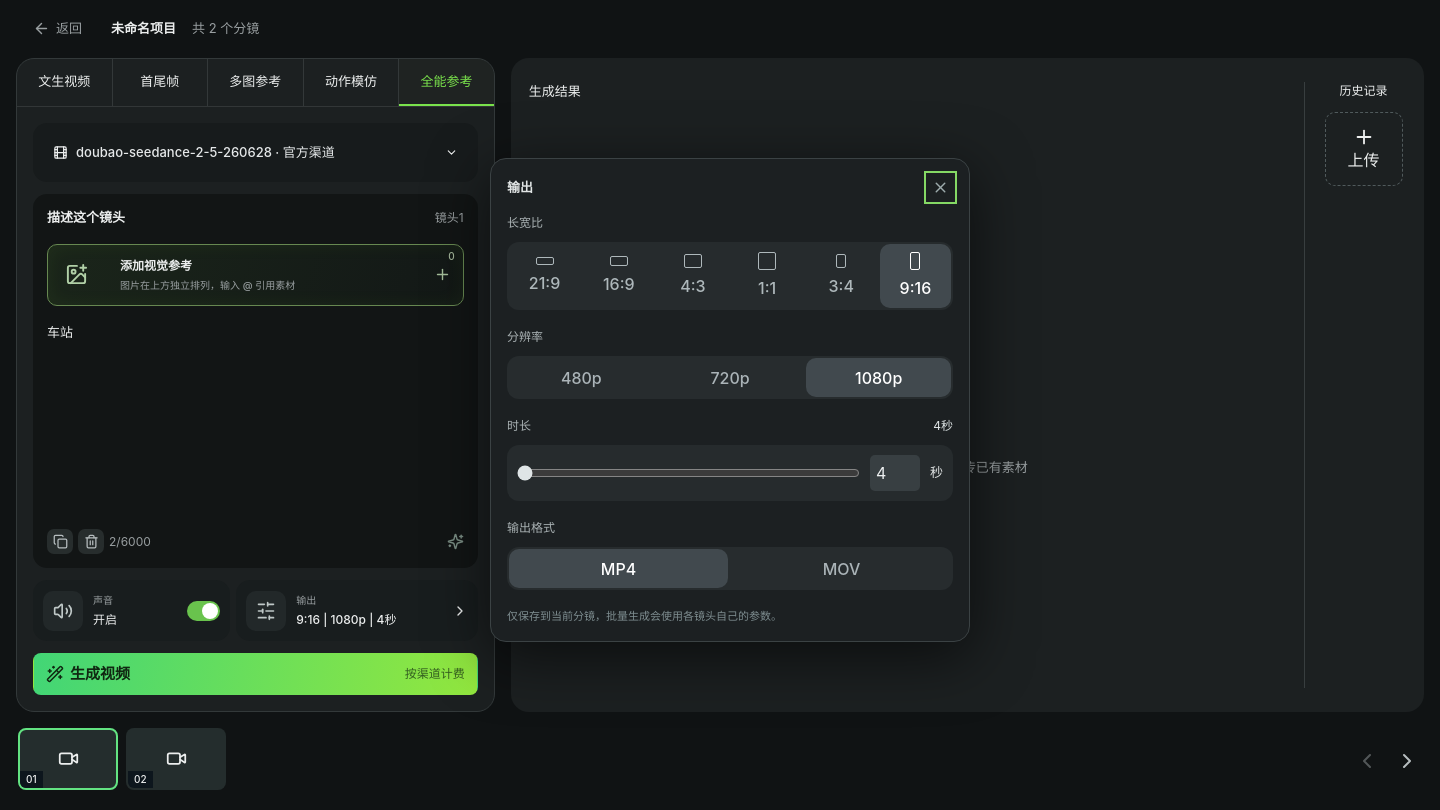
Test: film workspace interactions › keeps generation parameters independent across shots, close/reopen and saves
Earlier steps of the test are not shown.
Click the button "MOV" at (842, 568), box x1=732 y1=549 x2=951 y2=588
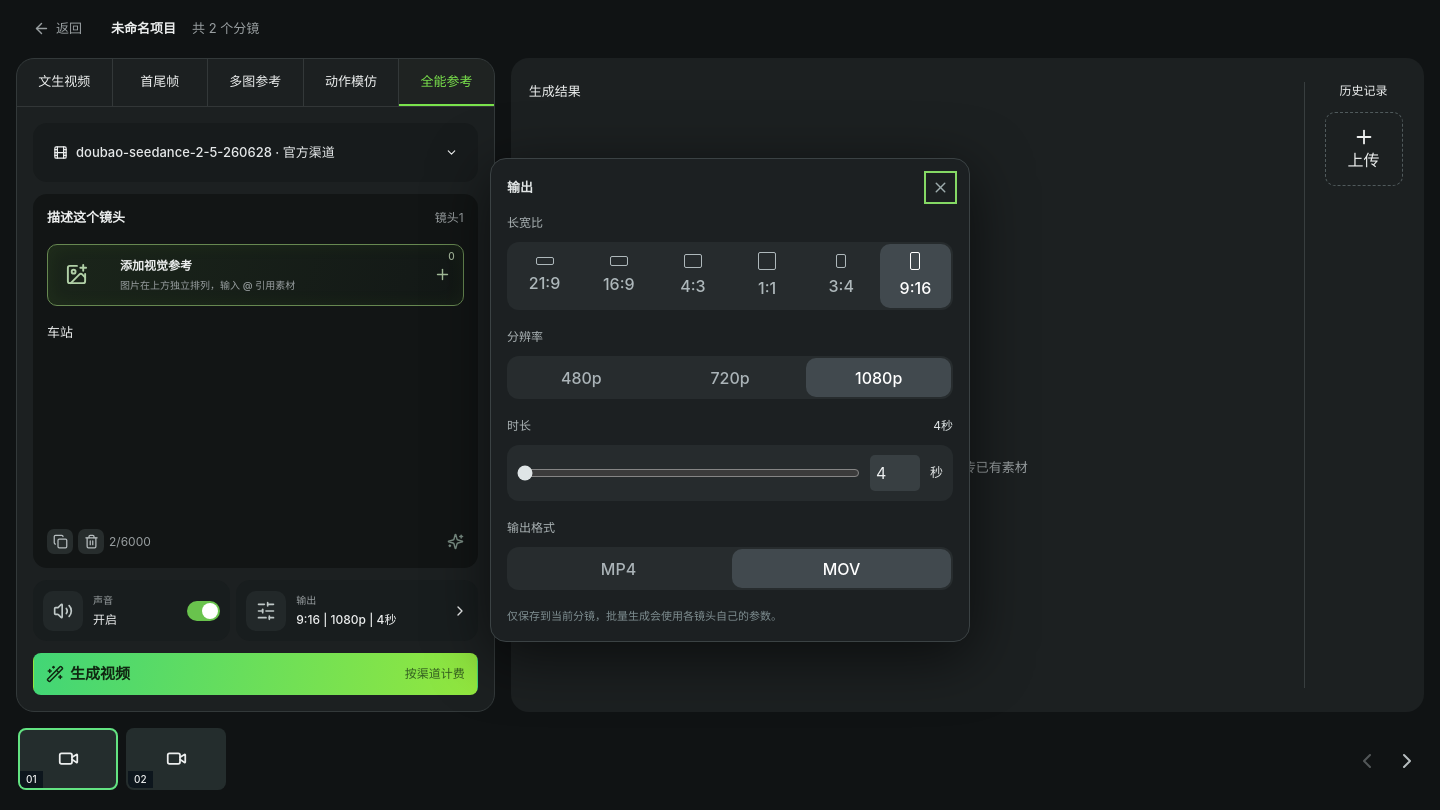
Click the button named "关闭输出参数" at (940, 188), box x1=928 y1=175 x2=953 y2=200
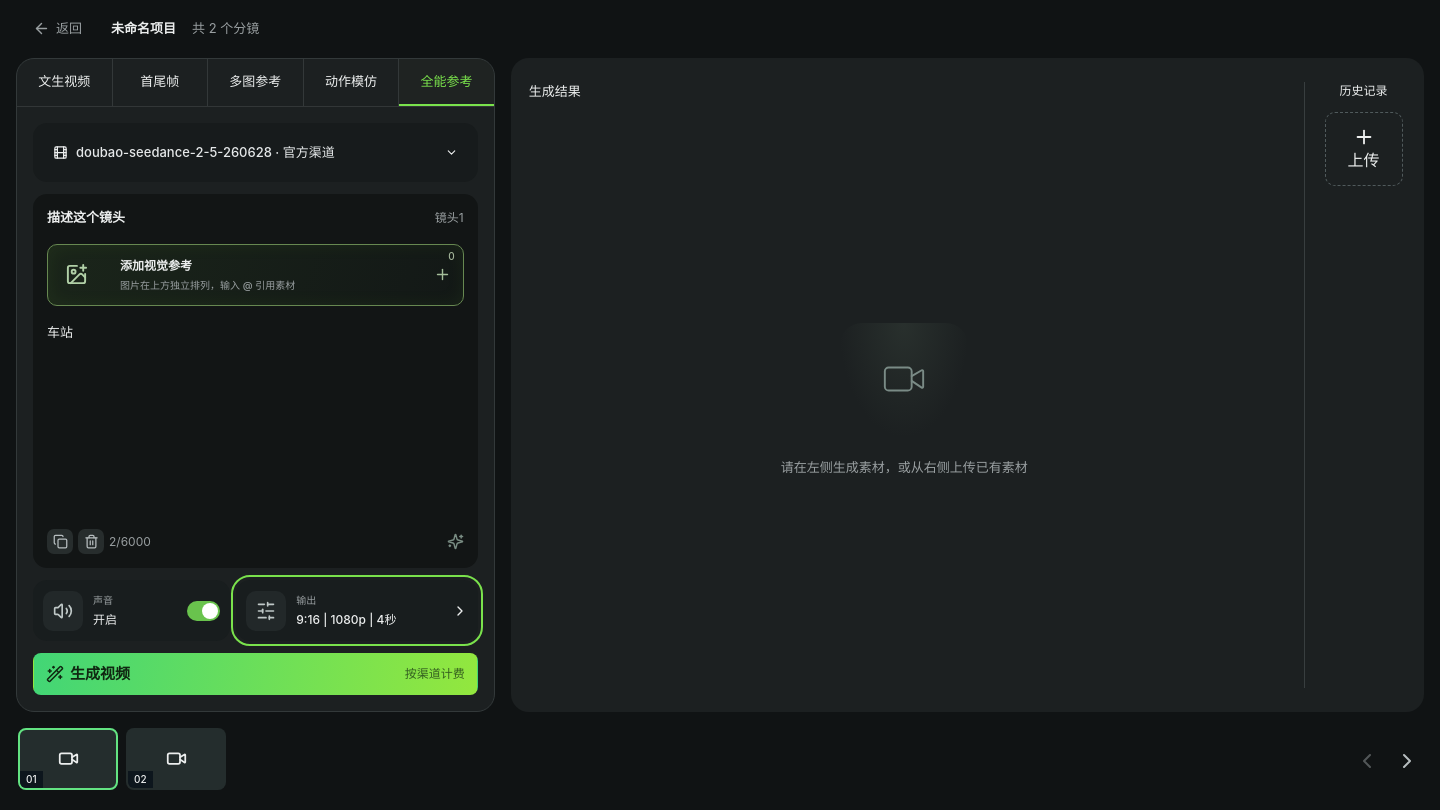
Click the button named "下一项" at (1407, 761), box x1=1392 y1=746 x2=1422 y2=776
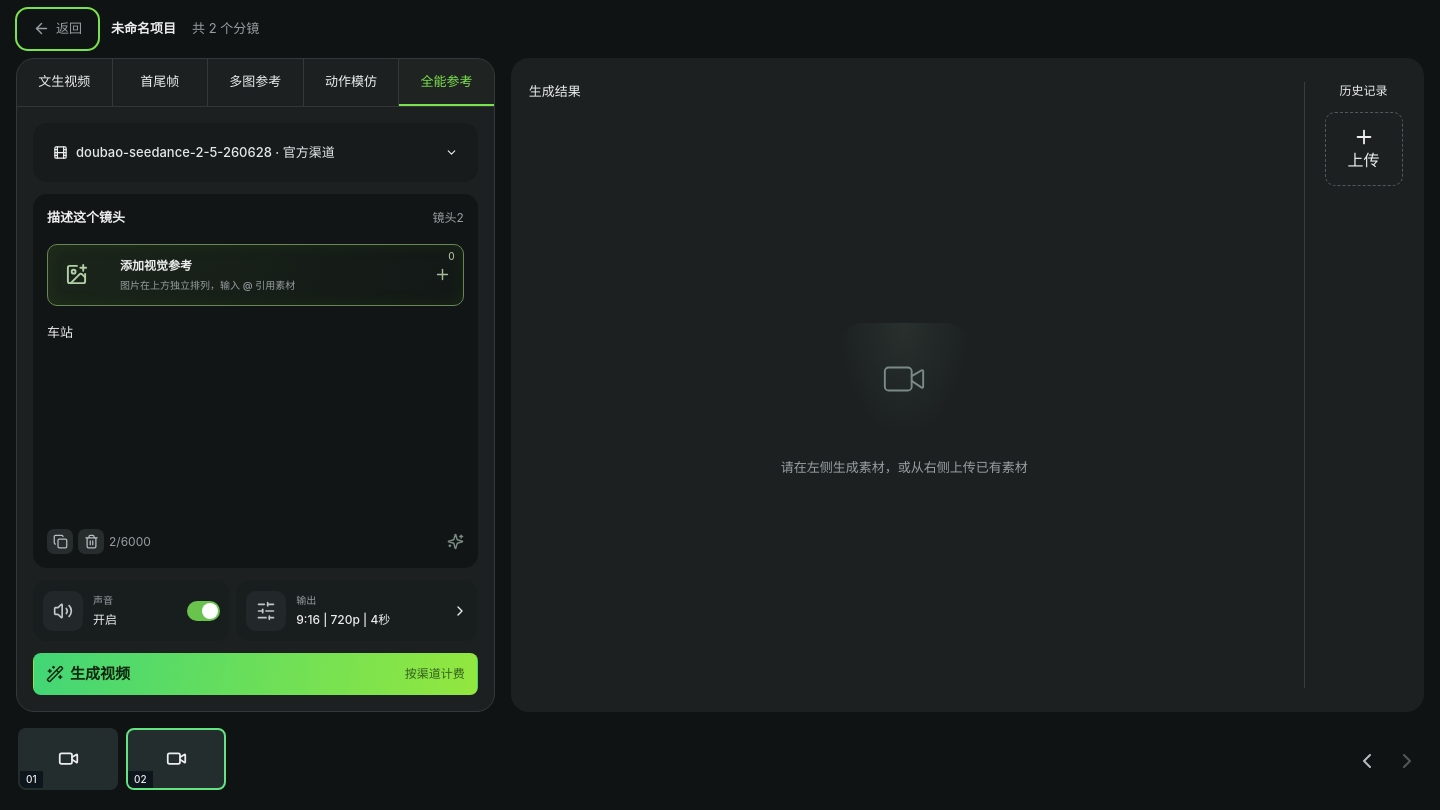
Expected: the button named "上一项" is shown
Expected: the button with class "film-output-summary" no longer shows "1080p"
Click the button named "上一项" at (1367, 761), box x1=1352 y1=746 x2=1382 y2=776
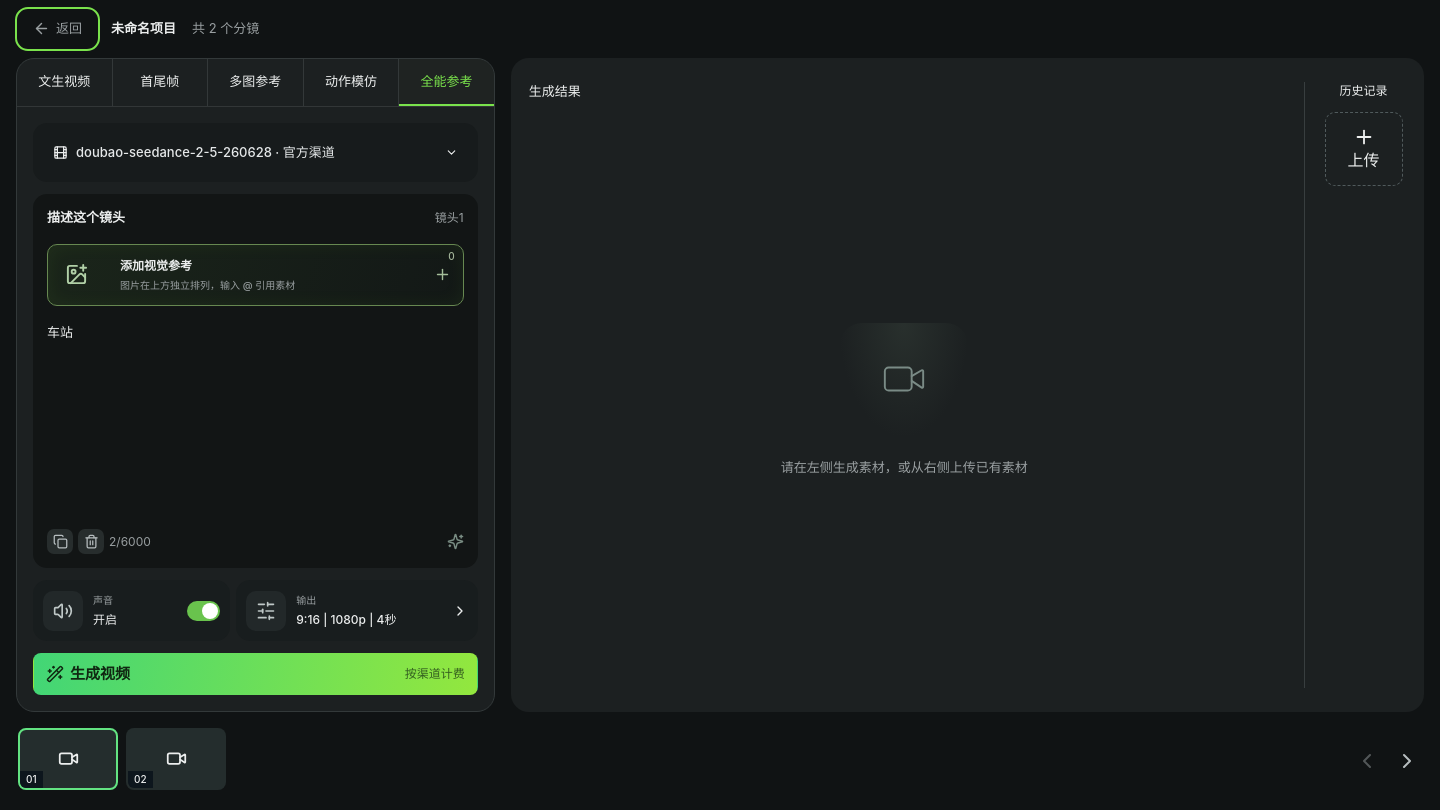
Expected: the text with class "film-output-summary" shows "1080p", x1=330 y1=612 x2=366 y2=626
Click the button "返回" at (58, 29), box x1=20 y1=12 x2=95 y2=46
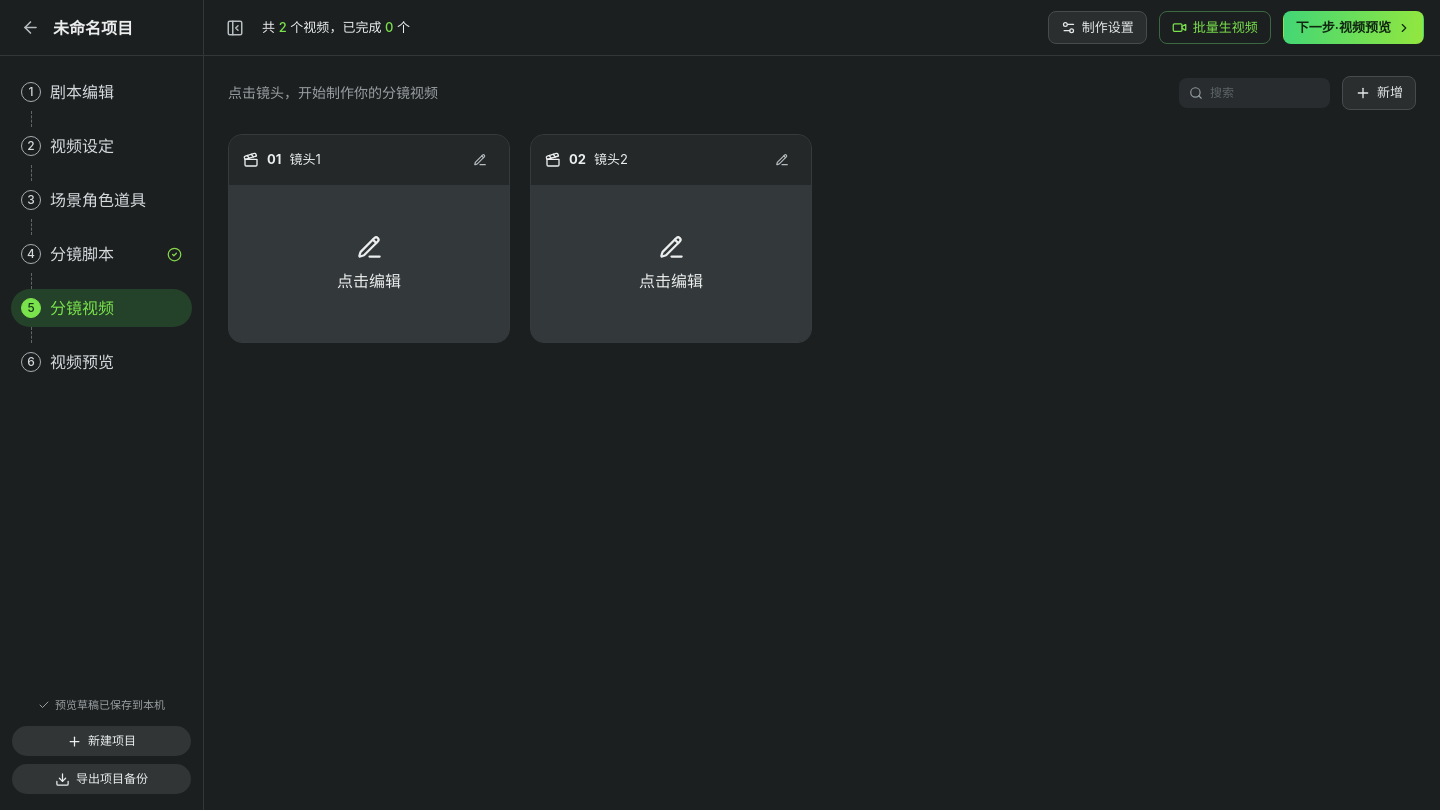
Click the button "点击编辑" below "01" at (369, 263), box x1=229 y1=184 x2=509 y2=342
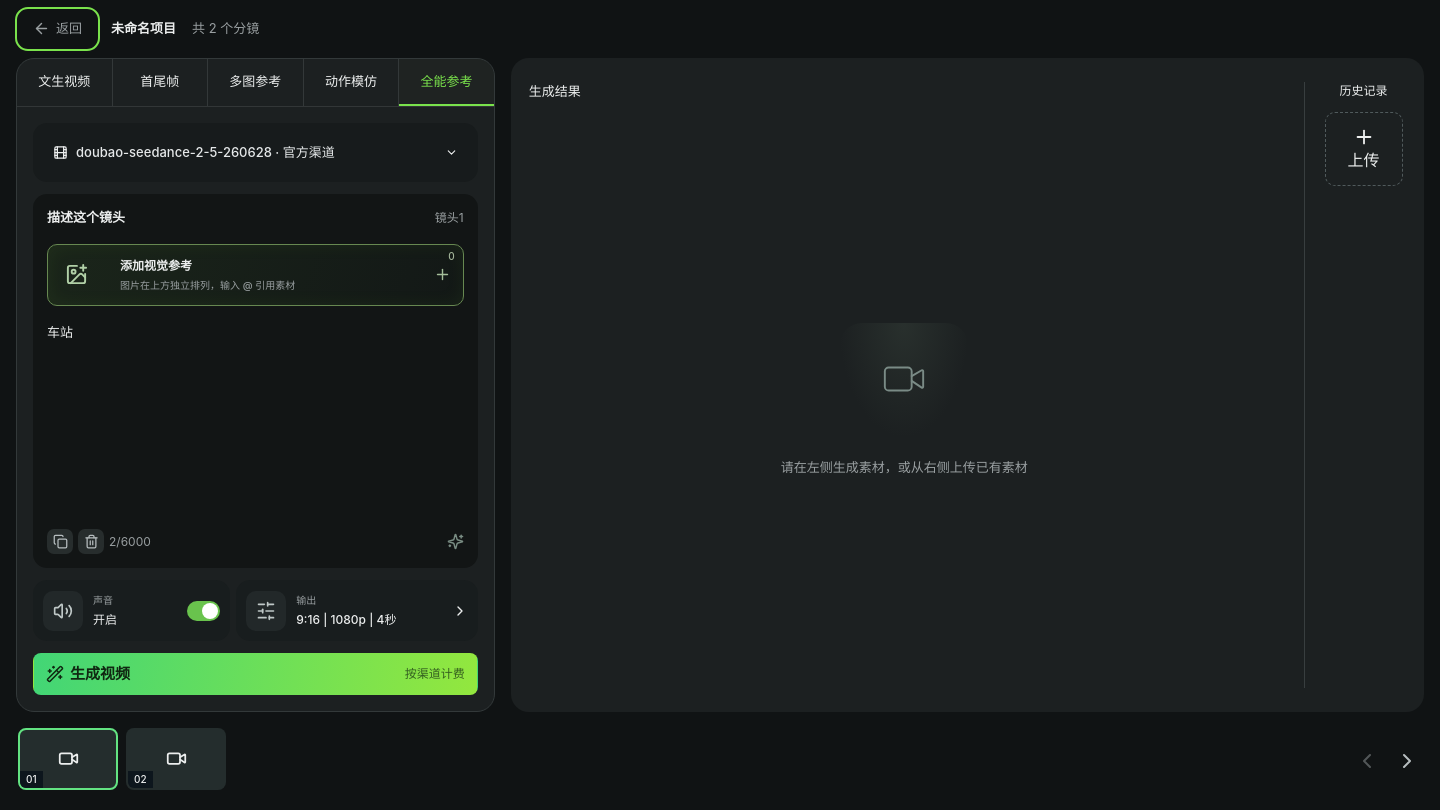
Expected: the text with class "film-output-summary" shows "1080p", x1=330 y1=612 x2=366 y2=626
